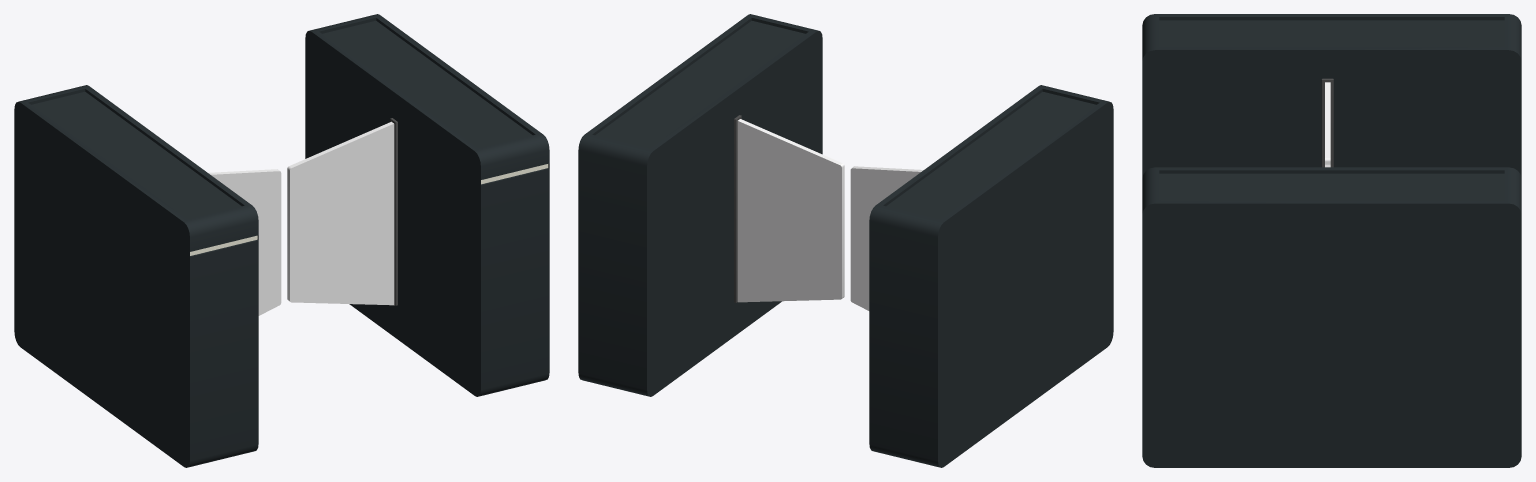
File: SM_Env_Turnstile.fbx
3 views of the same model, side by side, from view 1: azimuth 30°, elevation 25°; view 2: azimuth 150°, elevation 25°; view 3: azimuth 270°, elevation 25° (orthographic). The views are drawn at different scales.
Parts seen in each view (by area): view 1: Gabinetes, Catracas, Catracas.001; view 2: Gabinetes, Catracas, Catracas.001; view 3: Gabinetes, Catracas.001.
Part boxes in pixels (box(x1,y1,x2,y2)): Gabinetes: box(14, 14, 549, 467); Catracas: box(287, 121, 394, 305); Catracas.001: box(208, 169, 281, 315); Gabinetes: box(578, 14, 1113, 467); Catracas: box(737, 119, 844, 302); Catracas.001: box(850, 166, 923, 310); Gabinetes: box(1142, 14, 1521, 467); Catracas.001: box(1325, 82, 1330, 164).
Size of the model in its own units: 1.54 by 1 by 1.3.
